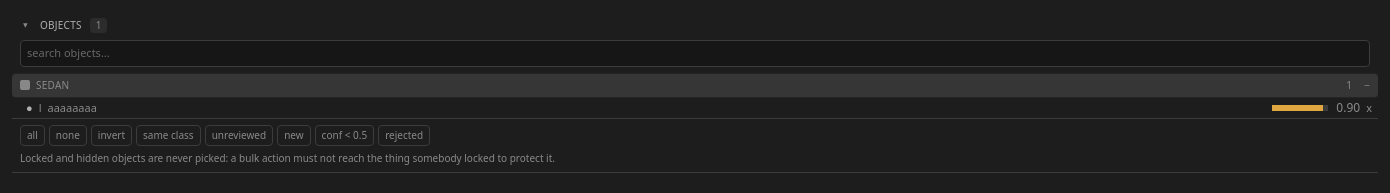
Test: search and grouping › distinguishes an empty frame from a query that matched nothing
Type "tanker" into the field labelled "search objects". click: x=695, y=53
box: top-left (20, 40), bottom-right (1370, 66)
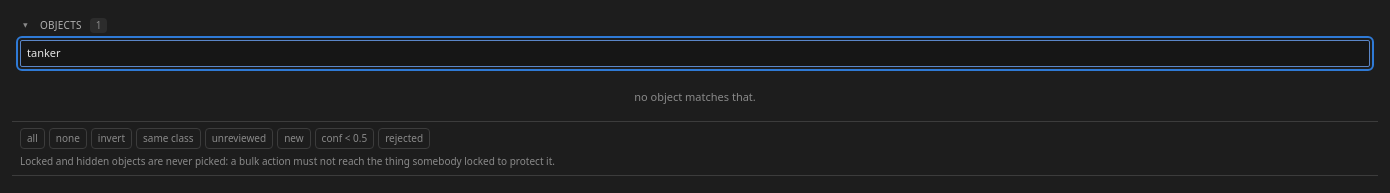
Expected: the text "no object matches that." is shown, top-left (634, 88), bottom-right (756, 104)
